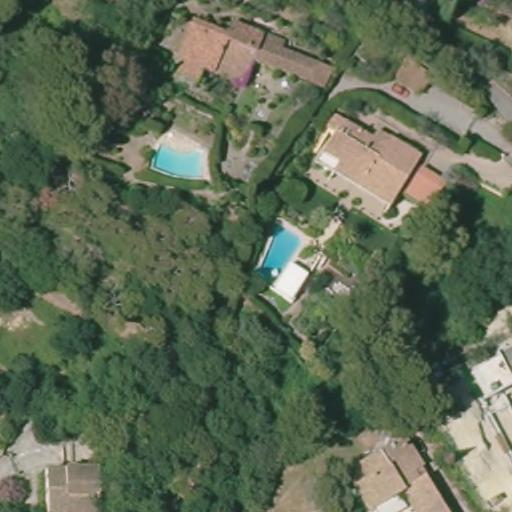pool: (252, 215, 306, 289), (145, 136, 215, 184)
